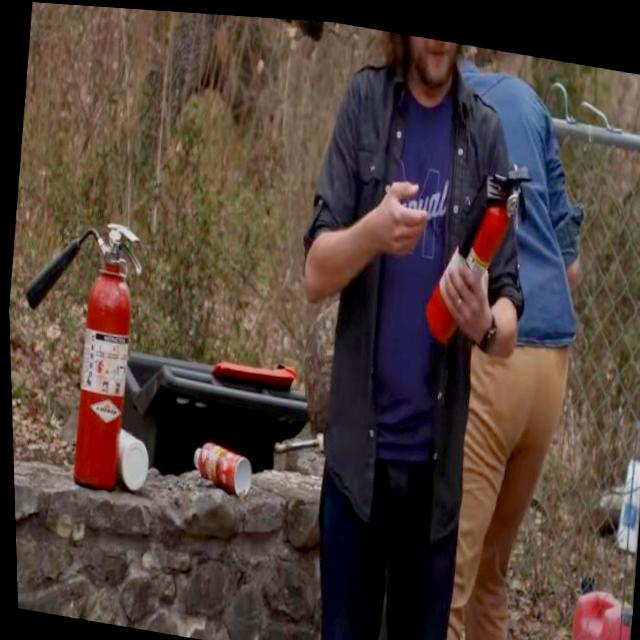FireExtinguisher: (4, 188, 161, 518), (413, 135, 539, 354), (183, 434, 253, 498)
